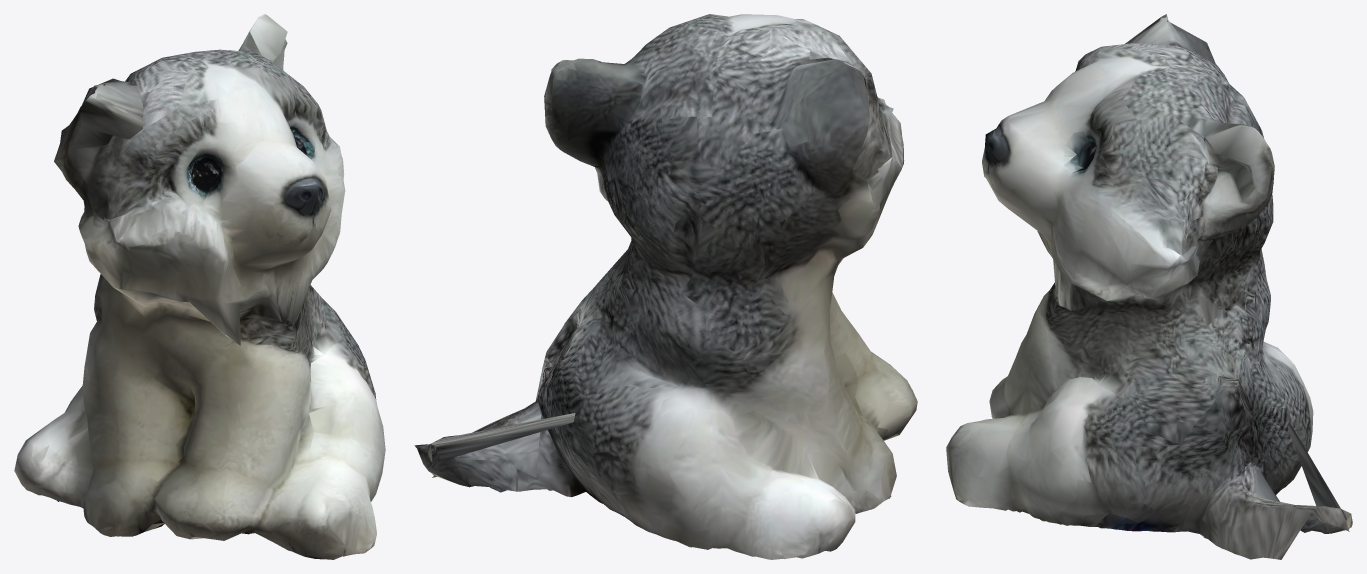
The model's file is jauli.glb.
The picture shows the model from 3 angles, left to right: view 1: azimuth 30°, elevation 25°; view 2: azimuth 150°, elevation 25°; view 3: azimuth 270°, elevation 25°; orthographic projection. The views are drawn at different scales.
Visible parts, largest first — view 1: 06_huskie.005; view 2: 06_huskie.005; view 3: 06_huskie.005.
Boxes of the visible parts, box(x1,y1,x2,y2) form: 06_huskie.005: box(14, 14, 385, 559); 06_huskie.005: box(414, 14, 917, 559); 06_huskie.005: box(946, 14, 1352, 559).
Bounding box in the file's own units: 0.8882 × 1.03 × 0.9189.
3 materials, 3 textured.
